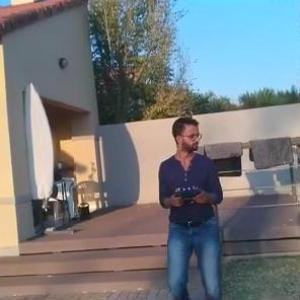follow: (155, 114, 229, 299)
